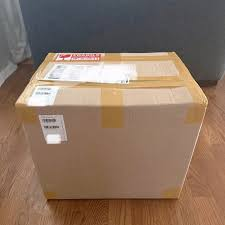undamaged: (11, 50, 211, 204)
